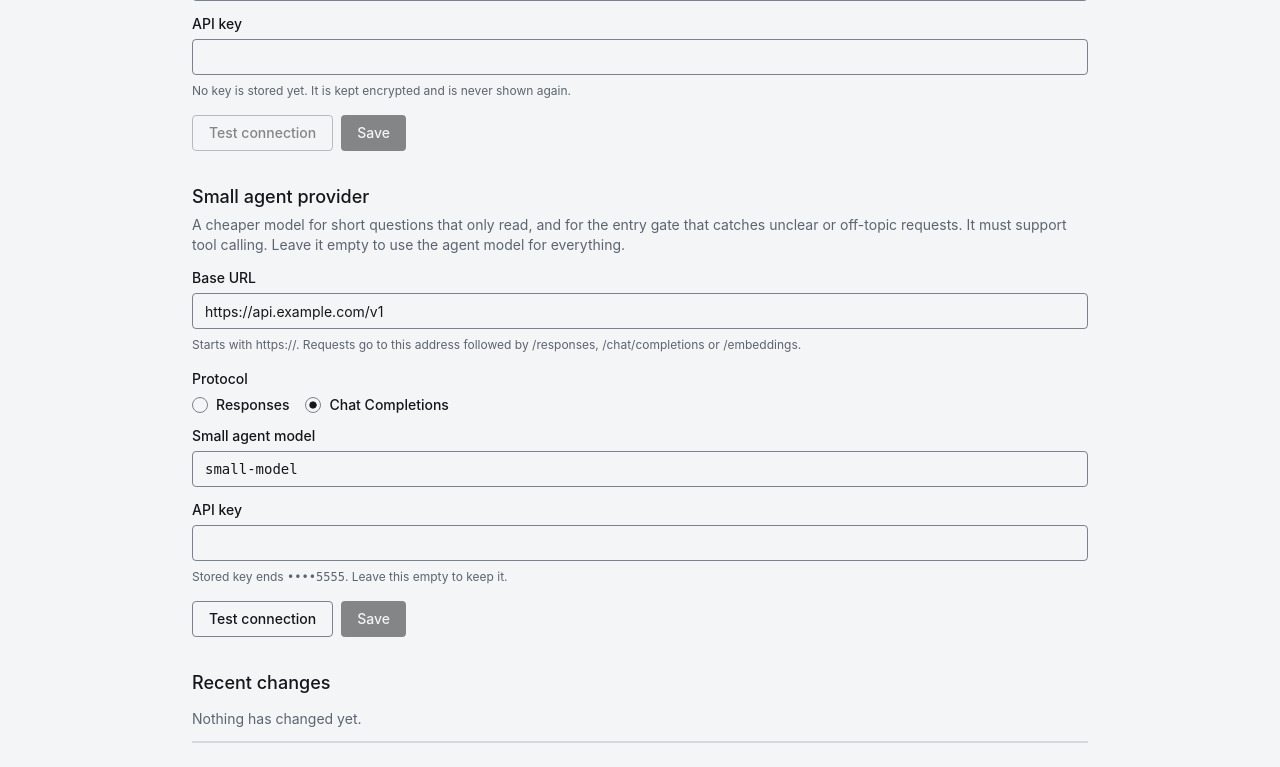
Test: shows the small agent model as a setting of its own and tests it on its own
This screenshot has width=1280, height=767.
(page scrolled)
Expected: the field labelled "Small agent model" holds "small-model", [192, 451, 1088, 487]
Click the button with aria-label "Test small agent connection" at coordinates (263, 619), box [192, 601, 333, 637]
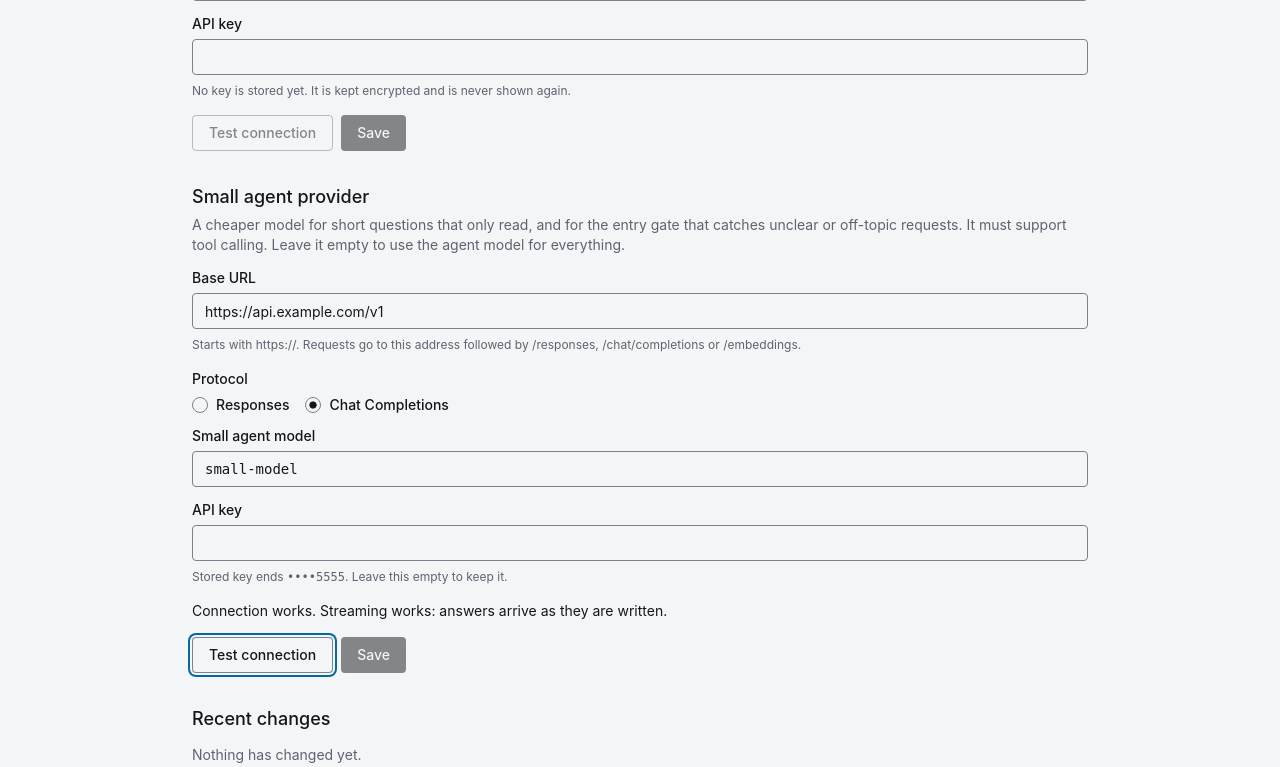
Expected: the text "Connection works. Streaming works: answers arrive as they are written." is shown, [192, 602, 667, 619]
